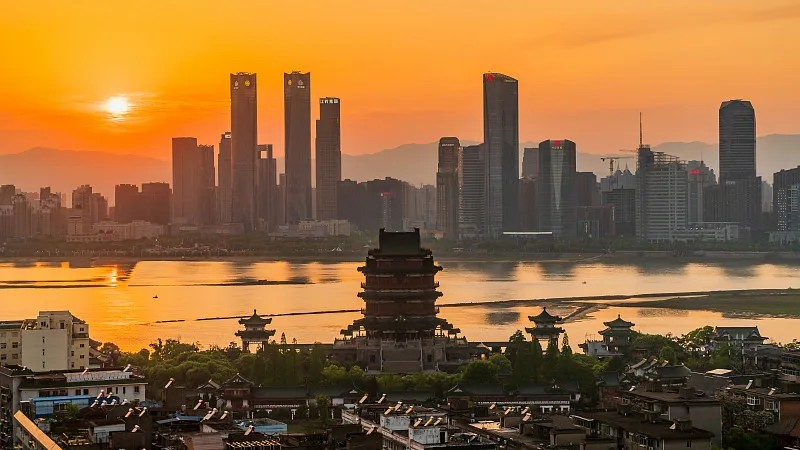Teng: (340, 227, 460, 337)
